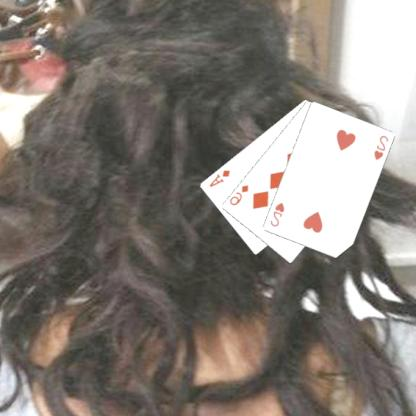2H: (373, 133, 391, 162), (269, 200, 287, 228)
9D: (228, 182, 251, 207)
AD: (208, 167, 233, 189)
